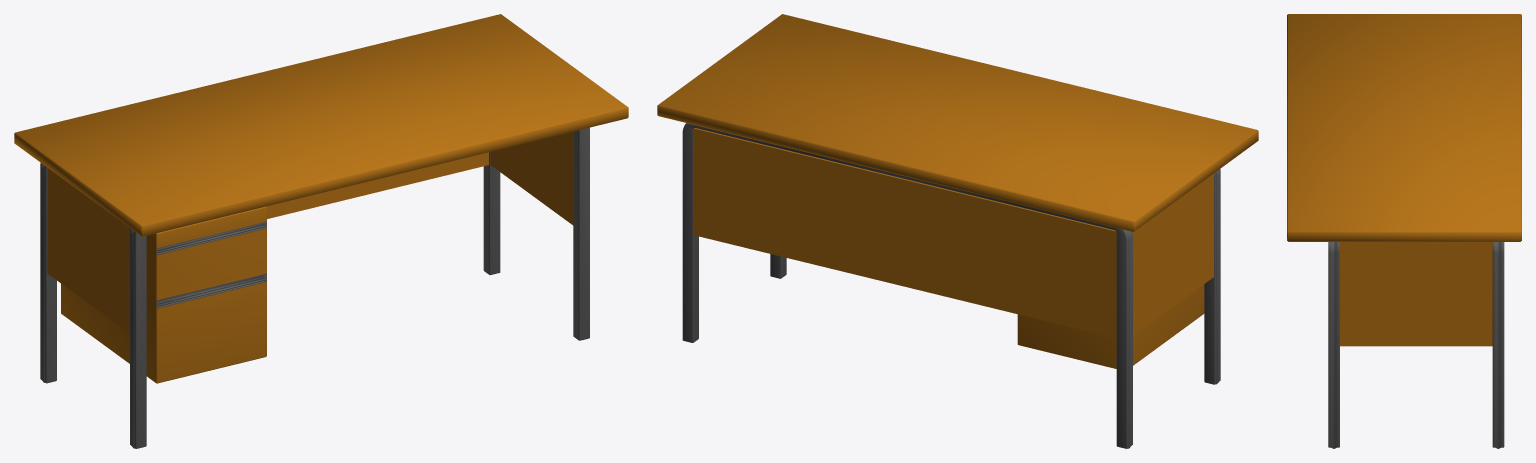
The model's file is teacher_desk.glb.
3 views of the same model, side by side, from view 1: azimuth 30°, elevation 25°; view 2: azimuth 150°, elevation 25°; view 3: azimuth 270°, elevation 25° (orthographic). The views are drawn at different scales.
Parts seen in each view (by area): view 1: surface, drawers, left_board, front_legs, back_legs, right_board, back_board; view 2: surface, back_board, left_board, back_legs, drawers, front_legs; view 3: surface, right_board, back_legs, front_legs.
Boxes of the visible parts, x1,y1,x2,y2 form: surface: (14,14,628,236); drawers: (61,206,266,383); left_board: (47,168,130,333); front_legs: (130,127,589,448); back_legs: (40,152,500,383); right_board: (490,131,573,225); back_board: (266,152,488,218); surface: (657,14,1258,231); back_board: (693,128,1116,338); left_board: (1132,173,1213,335); back_legs: (682,123,1132,448); drawers: (1017,284,1204,368); front_legs: (770,169,1220,384); surface: (1287,14,1521,241); right_board: (1340,242,1492,346); back_legs: (1492,242,1504,448); front_legs: (1328,242,1339,448).
Bounding box in the file's own units: 4.4 × 2.12 × 2.
